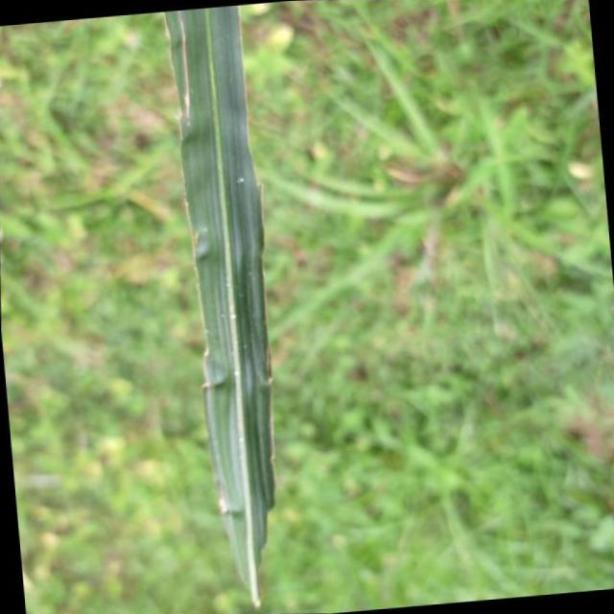Boron: (164, 0, 276, 612)
